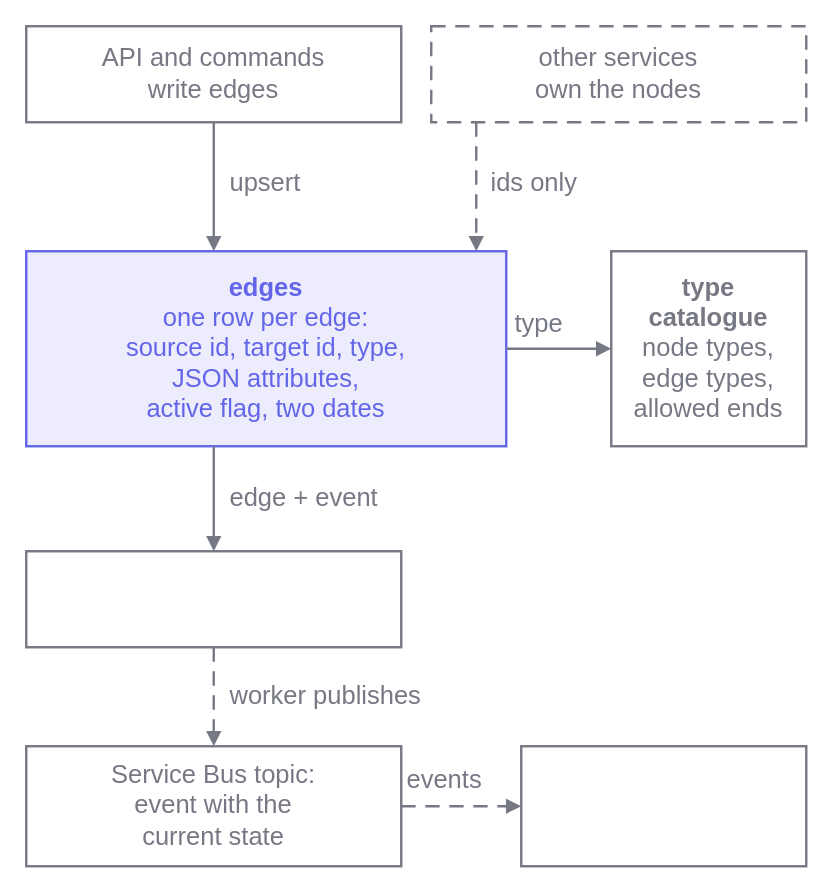
Image size: 834x894. Some labels were removed from this diagram. The shapes that lost their labels are listed below. From the top down, each one's centre as x and y in pixels, then its label:
point 213,598: outbox, written in the same transaction
point 663,805: warehouse event table
